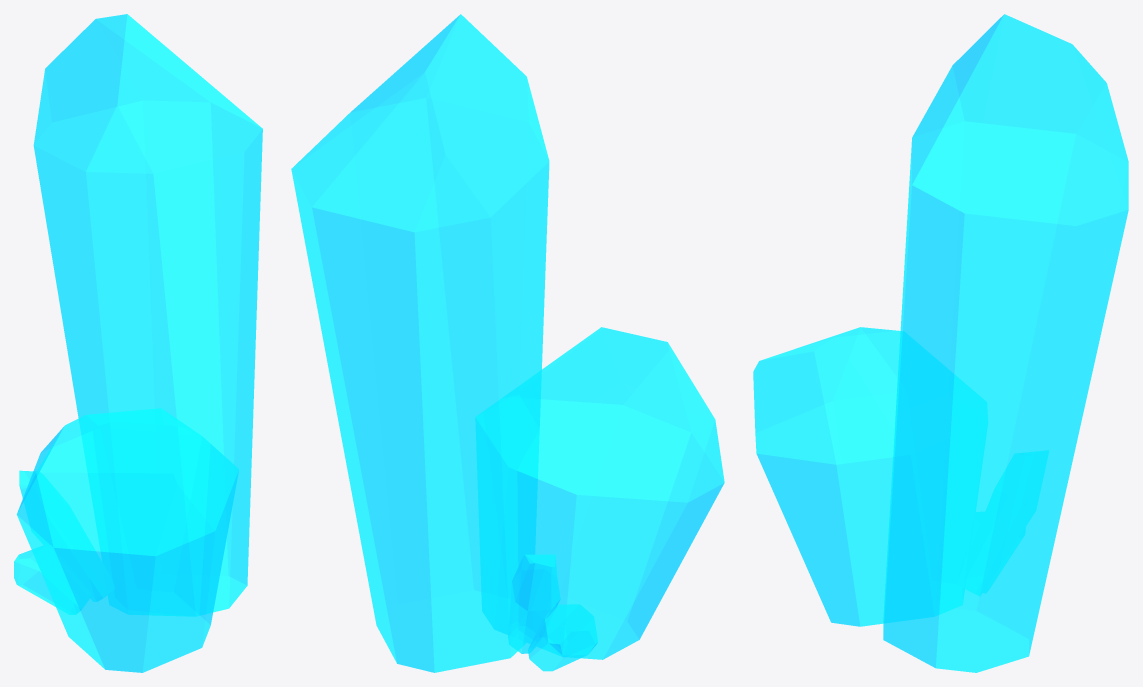
The model's file is Cristales.glb.
The picture shows the model from 3 angles, left to right: view 1: azimuth 30°, elevation 25°; view 2: azimuth 150°, elevation 25°; view 3: azimuth 270°, elevation 25°; orthographic projection. The views are drawn at different scales.
Parts seen in each view (by area): view 1: Cubo.013, Cubo.014, Cubo.015, Cubo.016; view 2: Cubo.013, Cubo.014, Cubo.015, Cubo.016; view 3: Cubo.013, Cubo.014, Cubo.015.
Part boxes in pixels (x1,y1,x2,y2): Cubo.013: (33,14,262,616); Cubo.014: (16,408,238,672); Cubo.015: (19,470,115,601); Cubo.016: (14,546,91,614); Cubo.013: (291,14,549,672); Cubo.014: (475,327,724,659); Cubo.015: (508,554,560,653); Cubo.016: (528,604,597,671); Cubo.013: (883,14,1128,672); Cubo.014: (753,327,987,626); Cubo.015: (965,451,1048,595).
Bounding box in the file's own units: 1.02 × 2.06 × 1.13.
